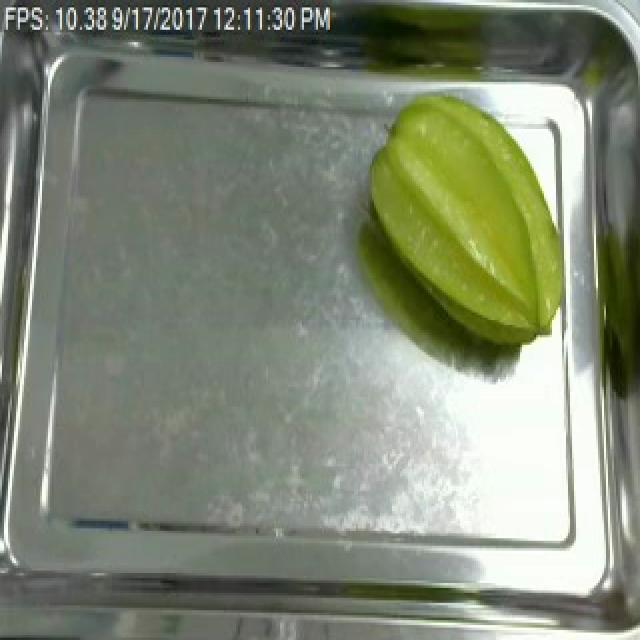fruit: (356, 79, 574, 360)
